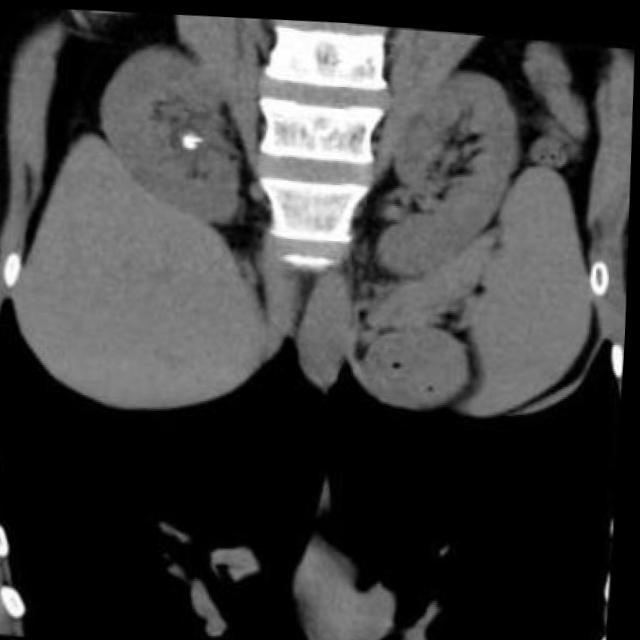Tas_Var: (183, 130, 207, 151)
